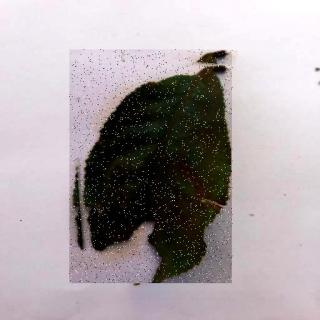Algal Leaf: (71, 50, 234, 284)
